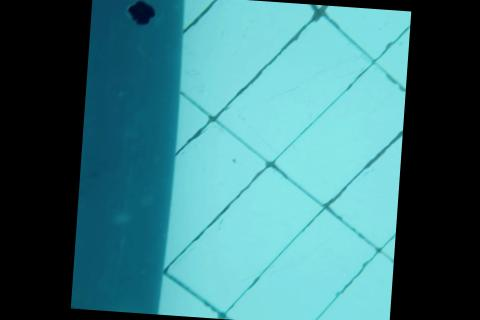kebocoran: (122, 0, 156, 27)
